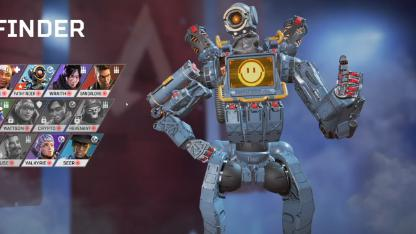Target: (183, 0, 315, 204)
